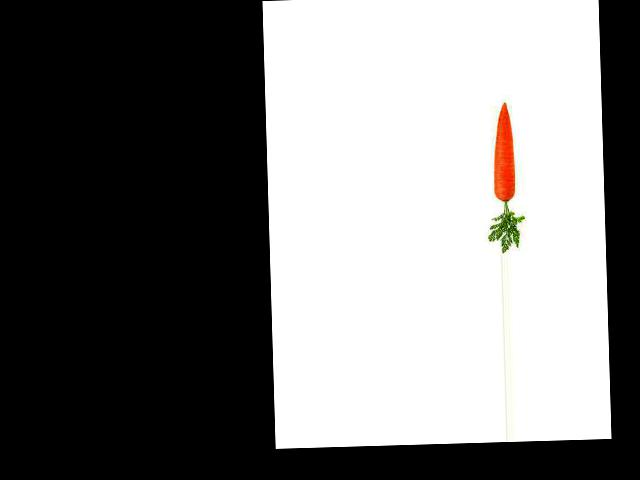carrot: (489, 98, 520, 204)
